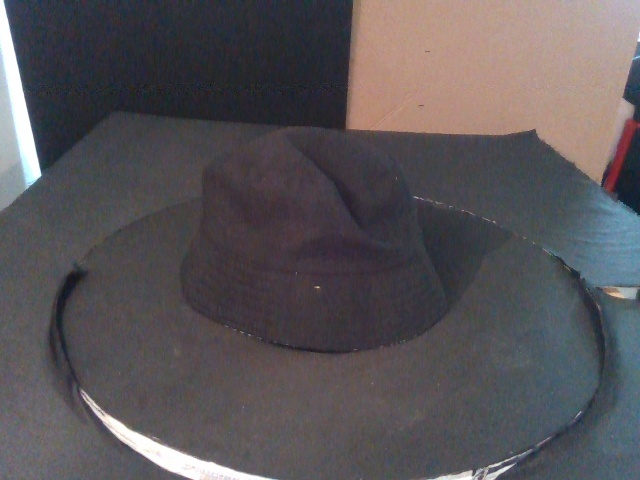hat: (182, 126, 448, 352)
